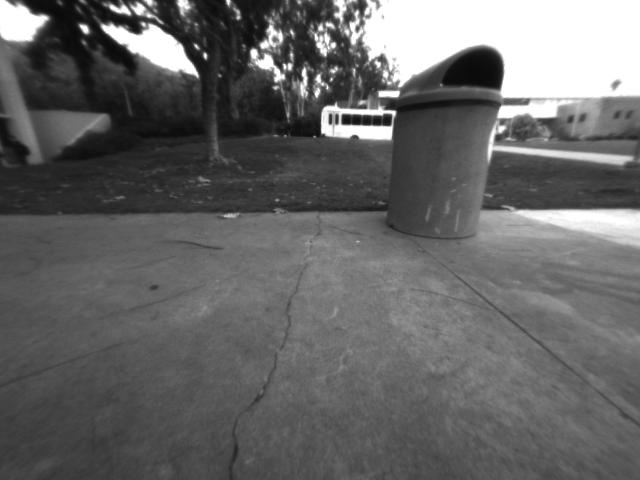trashcan: (386, 44, 511, 244)
